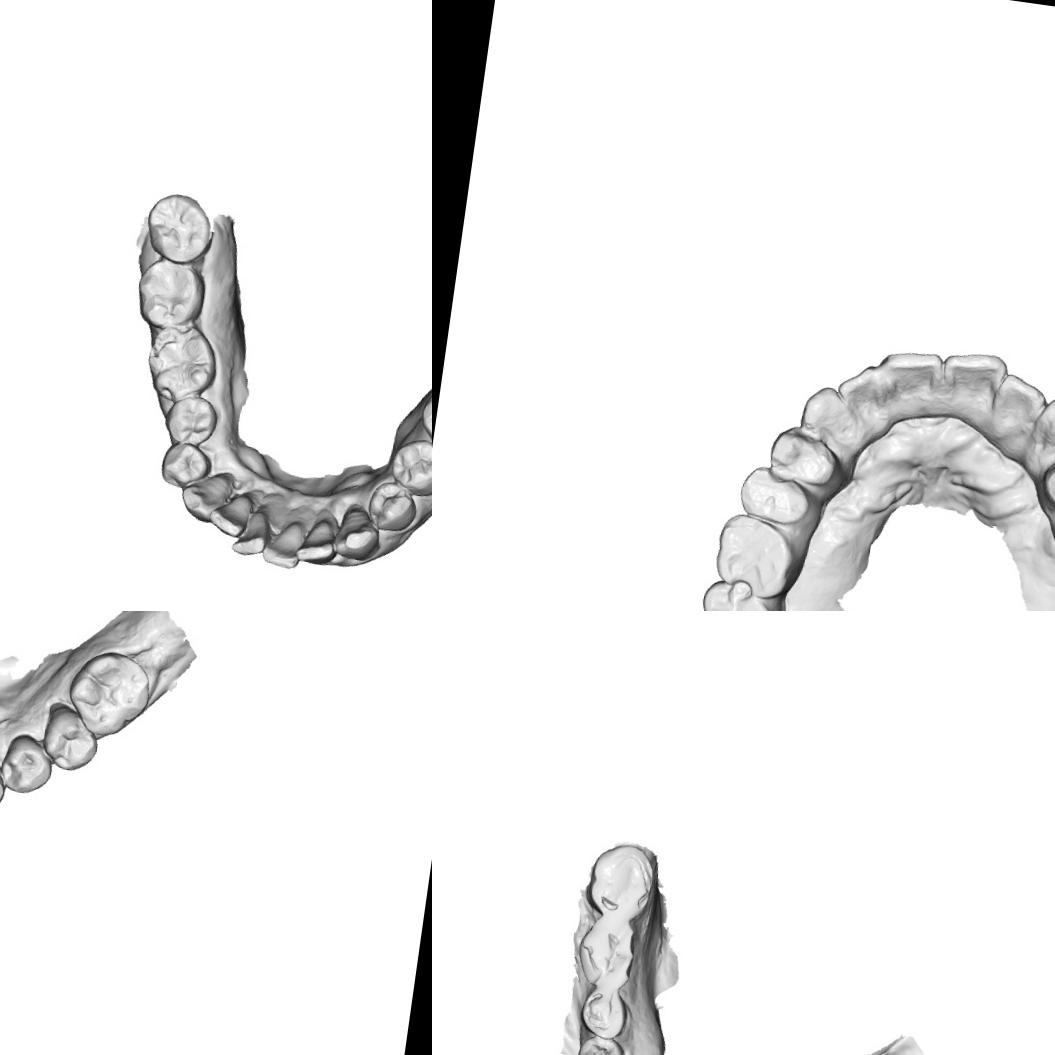canine: (794, 380, 866, 449), (330, 502, 384, 564), (178, 464, 232, 526), (1025, 393, 1055, 472), (0, 738, 12, 825)
incisor: (934, 348, 1012, 428), (874, 344, 944, 416), (983, 372, 1050, 445), (829, 358, 894, 432), (293, 514, 341, 569), (261, 514, 308, 570), (207, 486, 254, 539), (229, 506, 272, 560)
molar: (706, 509, 814, 605), (62, 645, 158, 743), (141, 320, 223, 408), (130, 253, 212, 334), (582, 838, 659, 923), (141, 188, 218, 269), (571, 912, 642, 992), (694, 577, 789, 611), (413, 368, 432, 465)
premolar: (732, 460, 828, 534), (761, 421, 850, 500), (36, 700, 104, 776), (0, 730, 57, 798), (161, 390, 220, 450), (364, 478, 421, 536), (575, 984, 632, 1042), (157, 438, 215, 492), (386, 435, 432, 499), (1037, 438, 1055, 516), (571, 1032, 628, 1055)
